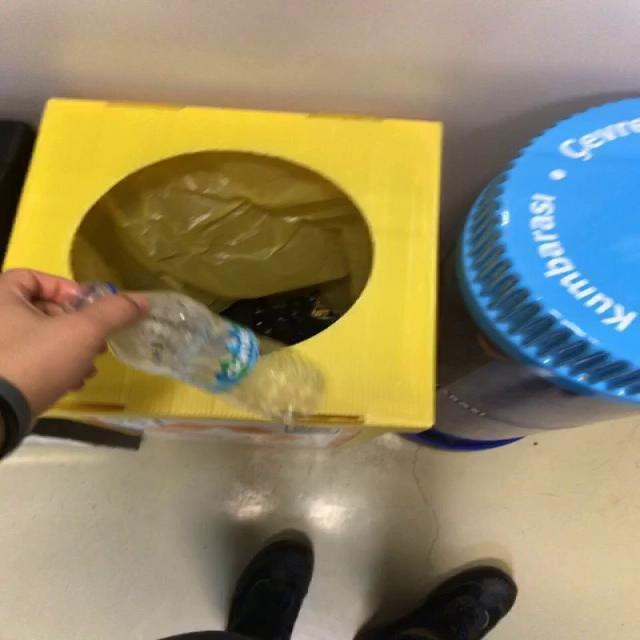Bin: (5, 99, 442, 429)
Plastic: (108, 292, 324, 424)
